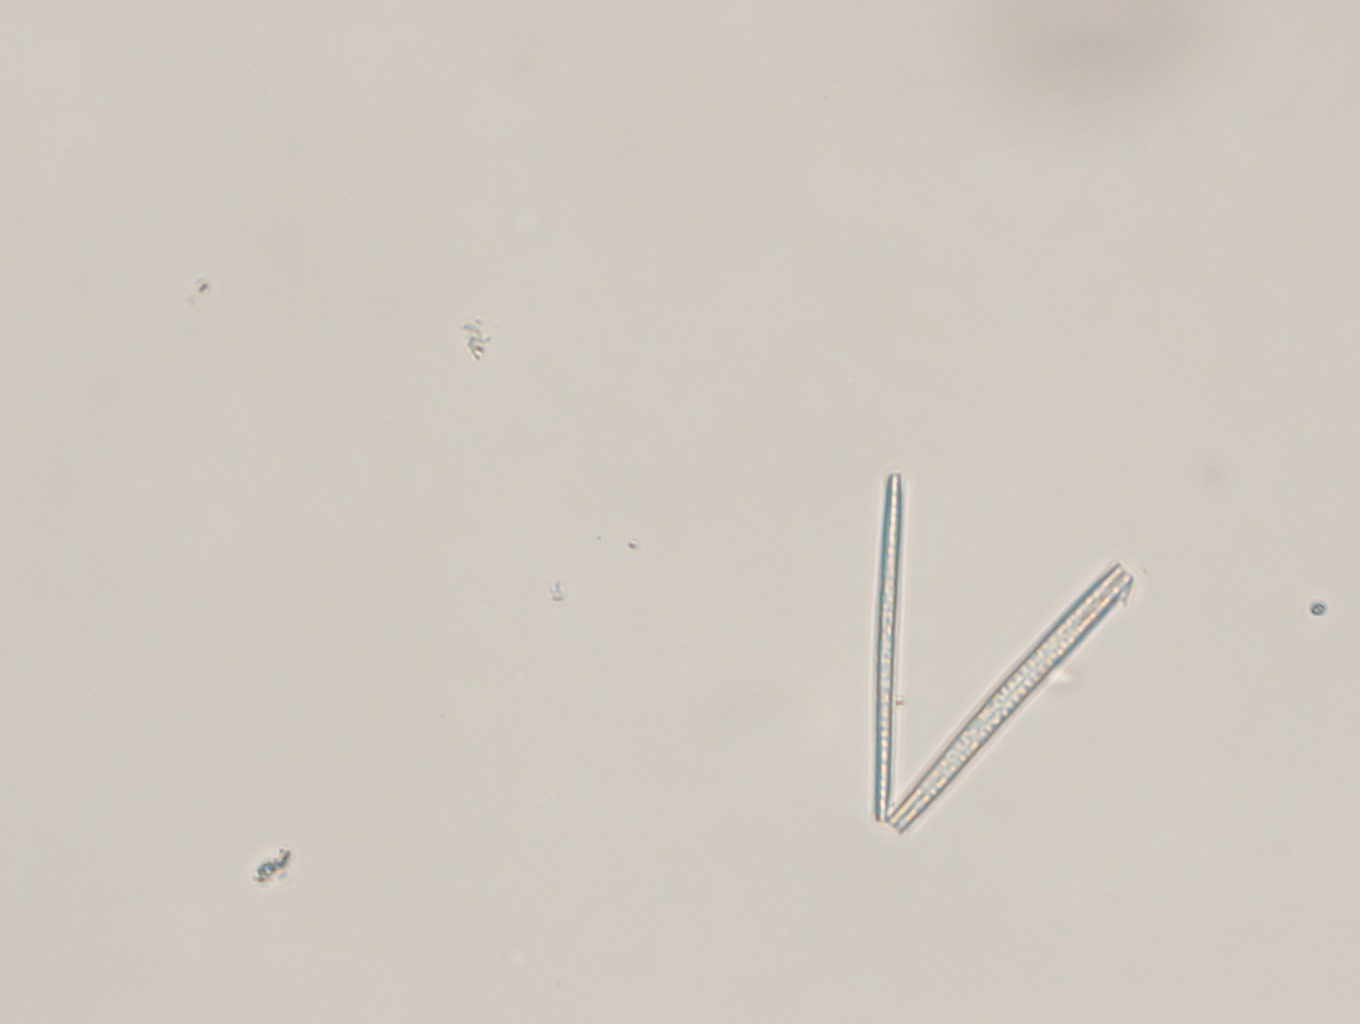thalassionema nitzschioides: (858, 465, 1136, 847)
